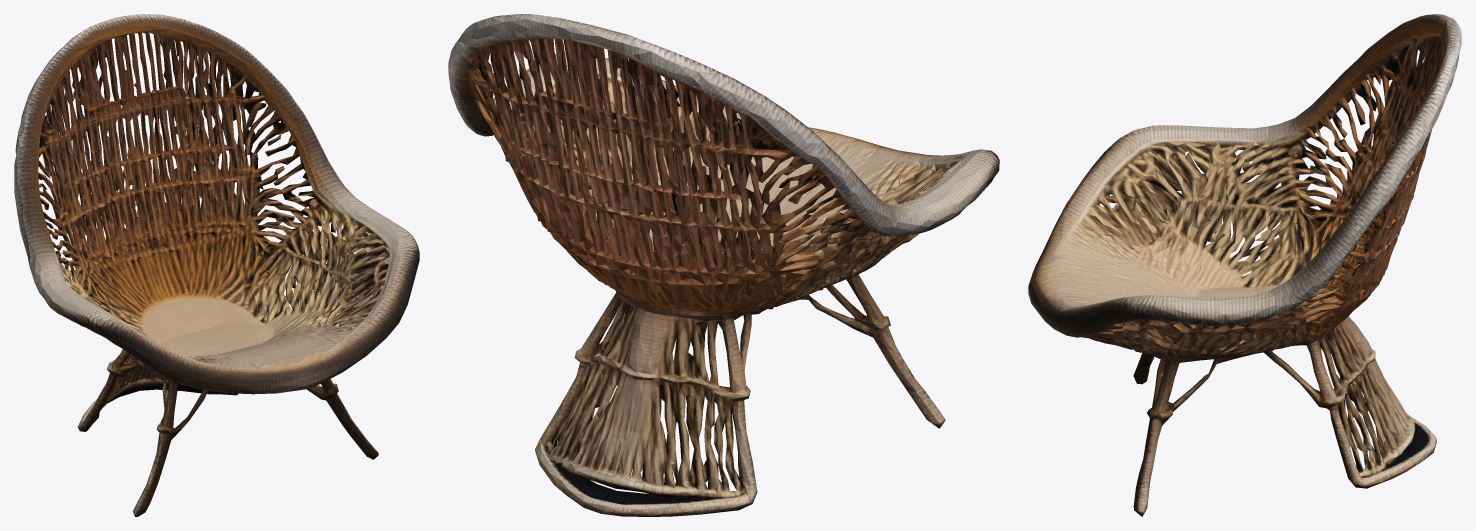
The model's file is handwoven-wicker-chair-futuristic.jpeg.glb.
3 renders of one model, left to right at view 1: azimuth 30°, elevation 25°; view 2: azimuth 150°, elevation 25°; view 3: azimuth 270°, elevation 25°, orthographic. The views are drawn at different scales.
Visible parts, largest first — view 1: world; view 2: world; view 3: world.
Part boxes in pixels (x1=…): world: x1=14, y1=14, x2=419, y2=516; world: x1=448, y1=14, x2=999, y2=516; world: x1=1028, y1=14, x2=1461, y2=516.
Size of the model in its own units: 0.9682 by 1 by 0.9478.
1 material, 1 textured.
